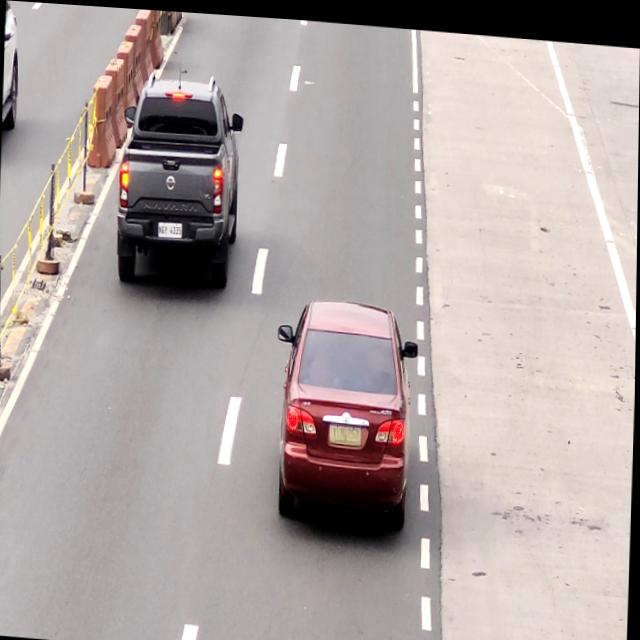Car: (284, 292, 417, 523), (114, 65, 241, 284)
License-Plate: (331, 417, 366, 442), (156, 219, 183, 240)
